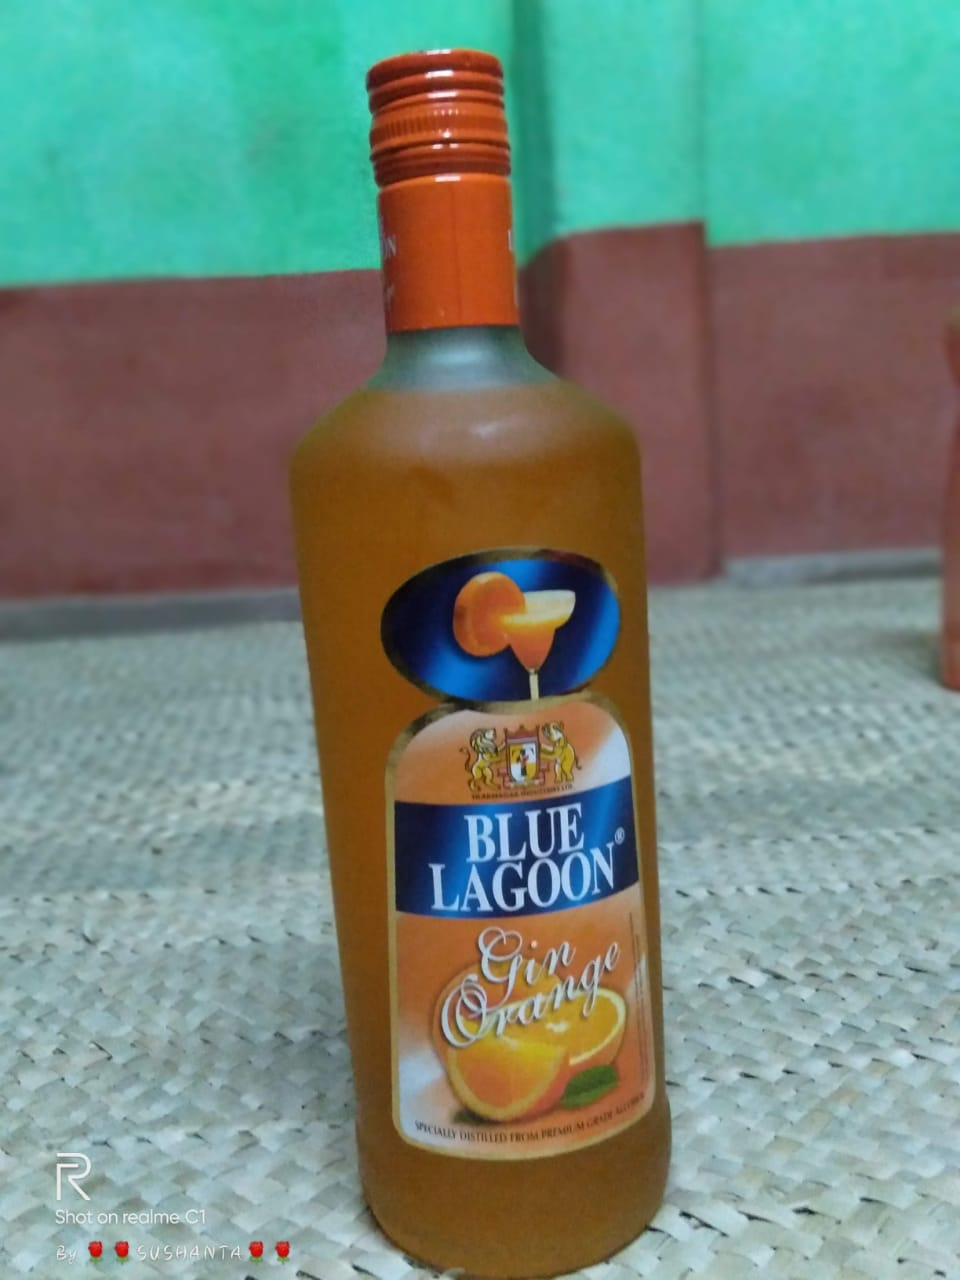glass_bottle: (240, 26, 748, 1280)
